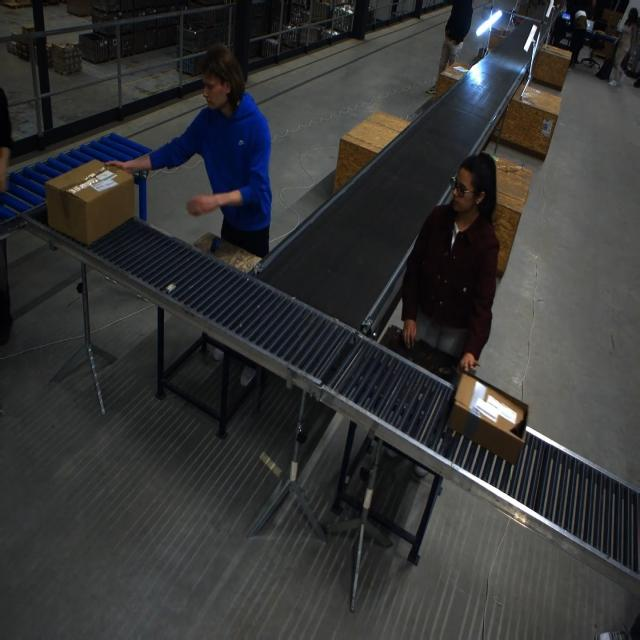box: (44, 160, 133, 246), (448, 368, 528, 462), (192, 232, 262, 277)
